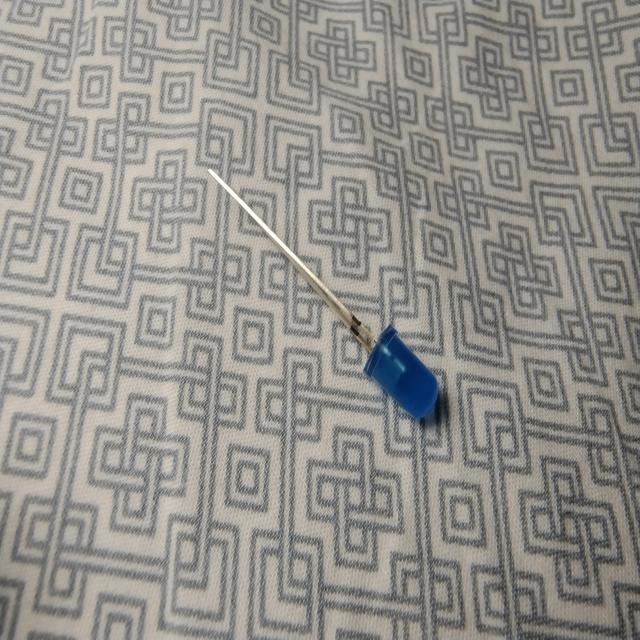blue_led: (362, 324, 439, 421)
